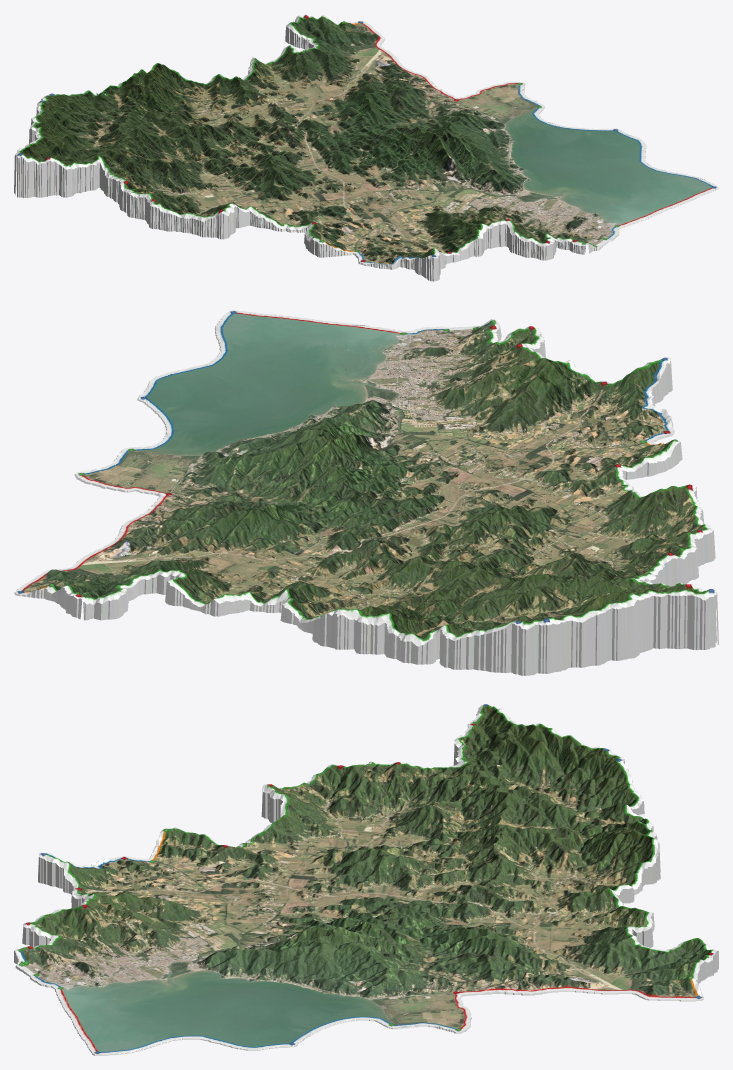
3 views of the same model, one above another, from view 1: azimuth 30°, elevation 25°; view 2: azimuth 150°, elevation 25°; view 3: azimuth 270°, elevation 25° (orthographic). The views are drawn at different scales.
Bounding box in the file's own units: 0.9992 × 0.0781 × 0.9745.
Materials: 1 (1 with a texture image).
